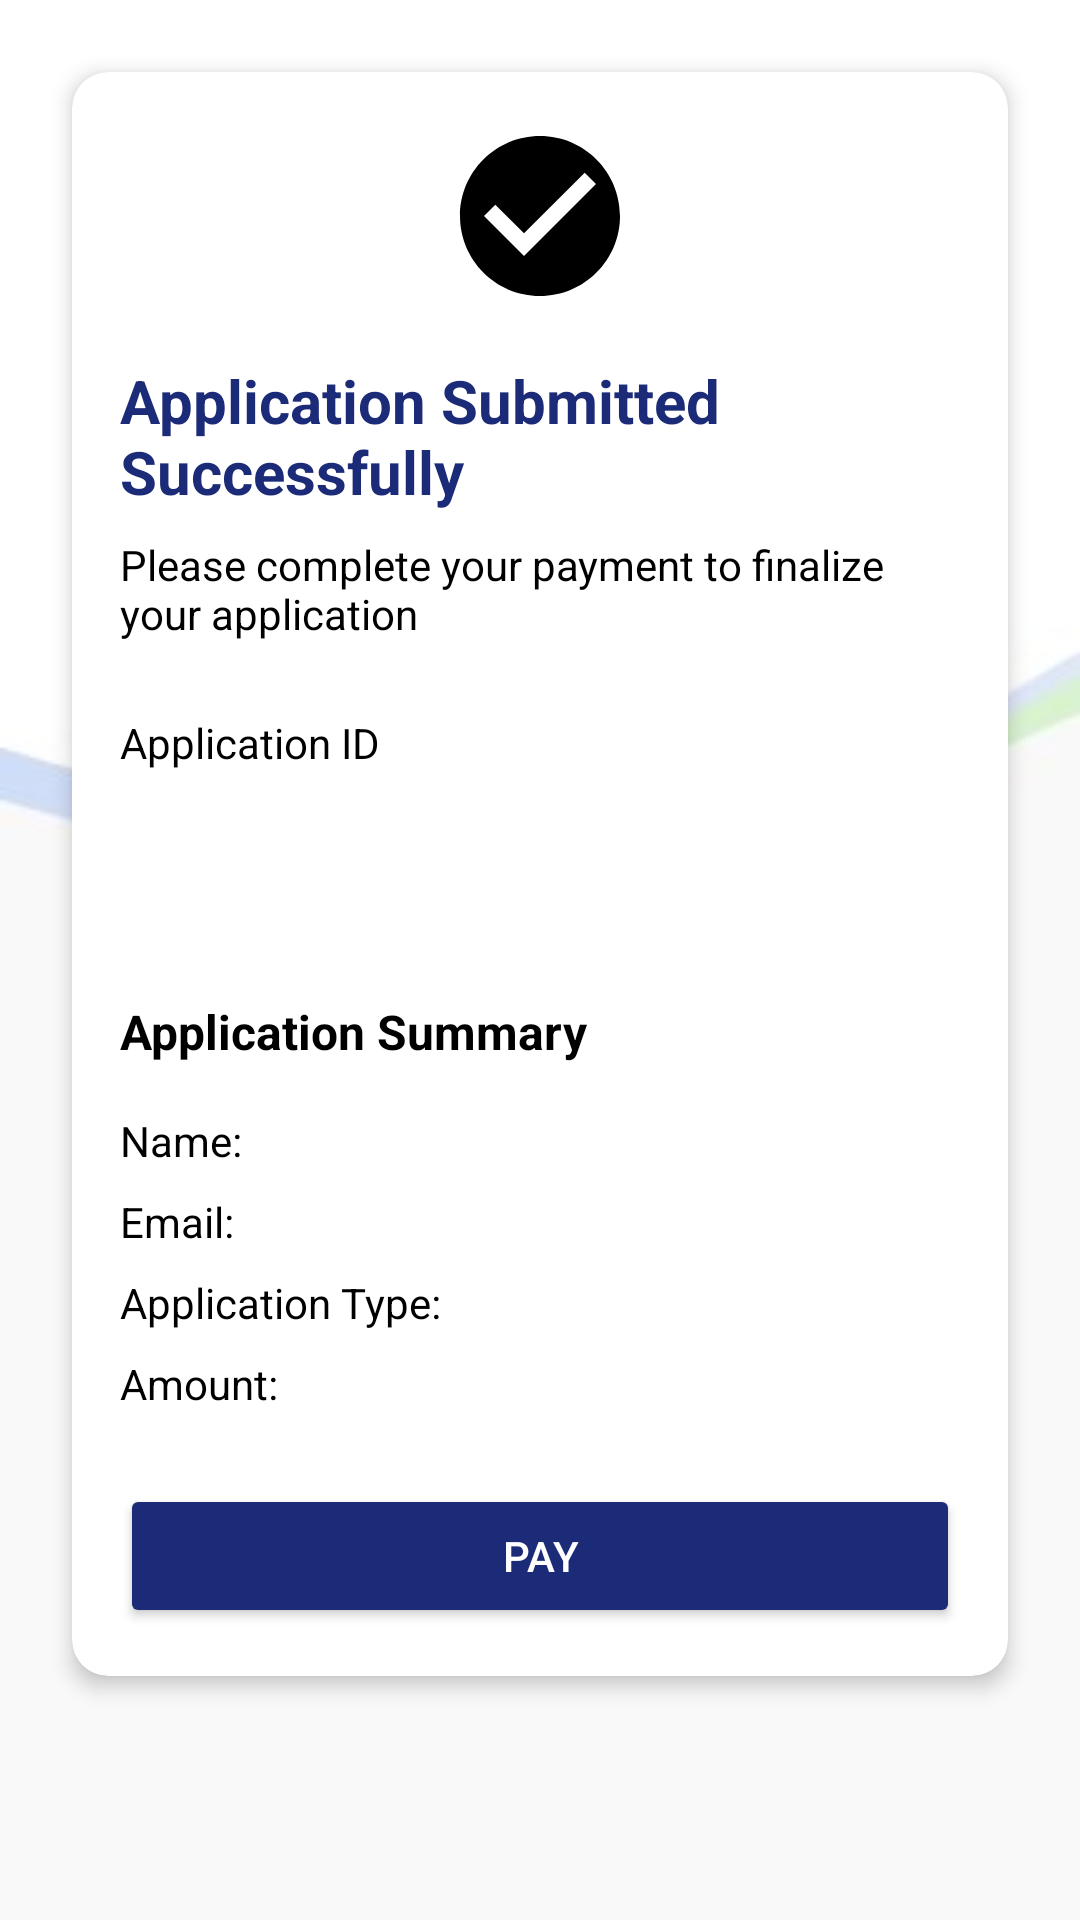

Icon bounding boxes for this 1080 × 1920 phone screenshot, format (left=x1, top=y1, right=x2, bottom=y2):
checkmark: (left=459, top=136, right=620, bottom=296)
